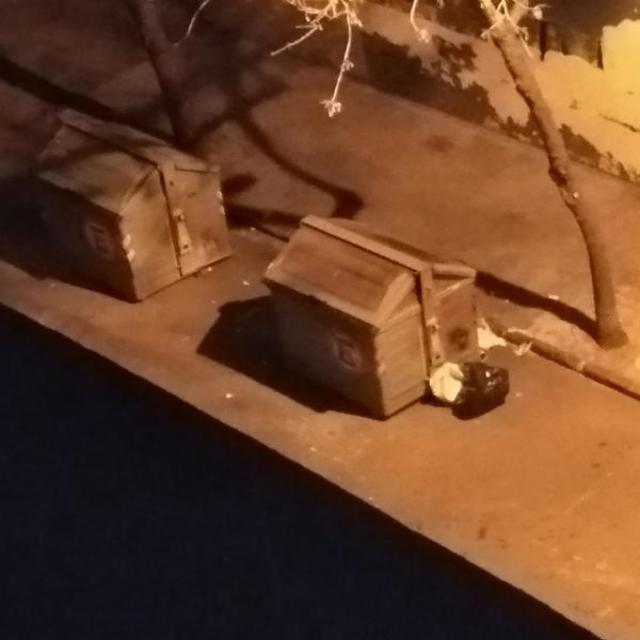garbage: (422, 338, 524, 414)
